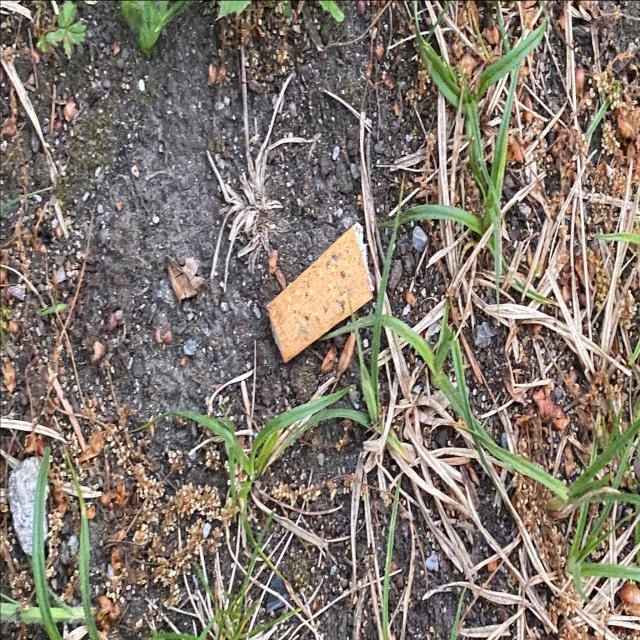other waste: (265, 220, 376, 366)
